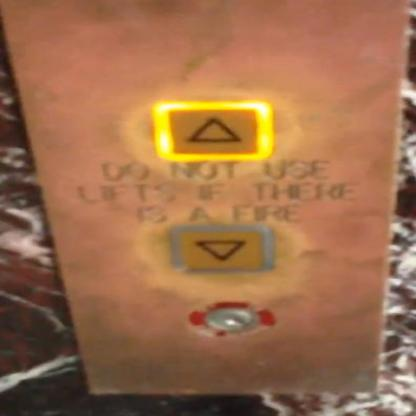down: (163, 222, 275, 276)
keyhole: (186, 296, 275, 340)
up: (150, 98, 277, 162)
